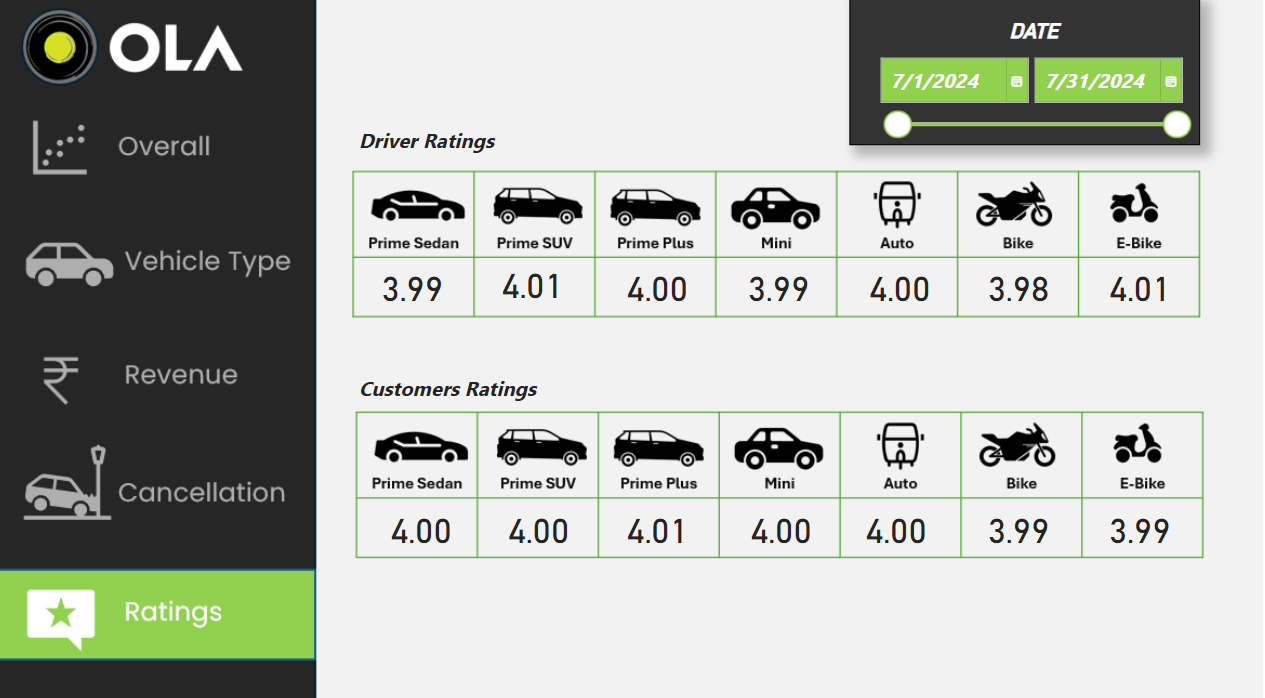

Layout of this report page (visuals, bound fields, positions):
{"tool":"powerbi","page":{"name":"Ratings","canvas":[1280,720],"ordinal":4},"visuals":[{"type":"actionButton","box":[56.4,123.9,290.8,94.5],"z":0},{"type":"actionButton","box":[56.4,216,290.8,94.5],"z":1000},{"type":"actionButton","box":[56.4,336.2,290.8,94.5],"z":2000},{"type":"actionButton","box":[57.7,439.3,290.8,94.5],"z":3000},{"type":"card","fields":{"Values":["Avg(July.Driver_Ratings)"]},"box":[384.8,271.2,109.1,51.5],"z":4000},{"type":"card","fields":{"Values":["Avg(July.Driver_Ratings)"]},"box":[495.5,269.7,109.1,51.5],"z":5000},{"type":"card","fields":{"Values":["Avg(July.Driver_Ratings)"]},"box":[610.6,271.2,109.1,51.5],"z":6000},{"type":"card","fields":{"Values":["Avg(July.Driver_Ratings)"]},"box":[722.7,271.2,109.1,51.5],"z":7000},{"type":"card","fields":{"Values":["Avg(July.Driver_Ratings)"]},"box":[834.9,271.2,109.1,51.5],"z":8000},{"type":"card","fields":{"Values":["Avg(July.Driver_Ratings)"]},"box":[945.5,271.2,109.1,51.5],"z":9000},{"type":"card","fields":{"Values":["Avg(July.Driver_Ratings)"]},"box":[1057.6,271.2,109.1,51.5],"z":10000},{"type":"card","fields":{"Values":["Avg(July.Customer_Rating)"]},"box":[392.4,495.5,109.1,51.5],"z":11000},{"type":"card","fields":{"Values":["Avg(July.Customer_Rating)"]},"box":[610.6,495.5,109.1,51.5],"z":12000},{"type":"card","fields":{"Values":["Avg(July.Customer_Rating)"]},"box":[725.8,495.5,109.1,51.5],"z":13000},{"type":"card","fields":{"Values":["Avg(July.Customer_Rating)"]},"box":[831.8,495.5,109.1,51.5],"z":14000},{"type":"card","fields":{"Values":["Avg(July.Customer_Rating)"]},"box":[945.5,495.5,109.1,51.5],"z":15000},{"type":"card","fields":{"Values":["Avg(July.Customer_Rating)"]},"box":[1057.6,495.5,109.1,51.5],"z":16000},{"type":"card","fields":{"Values":["Avg(July.Customer_Rating)"]},"box":[501.5,495.5,109.1,51.5],"z":17000},{"type":"textbox","box":[384.8,143.9,143.9,43.9],"z":18000},{"type":"textbox","box":[384.8,372.7,187.9,40.9],"z":19000},{"type":"slicer","title":"DATE","fields":{"Values":["July.Date"]},"box":[843.9,28.8,324.2,137.9],"z":20000}]}

Visuals, with their boxes in screenshot pixels (x1, y1, x2, y2), scaled from the page's 1280x720 canvas onto the 1265x698 screenshot:
actionButton: (x1=56, y1=120, x2=343, y2=212)
actionButton: (x1=56, y1=209, x2=343, y2=301)
actionButton: (x1=56, y1=326, x2=343, y2=418)
actionButton: (x1=57, y1=426, x2=344, y2=517)
card - Avg(July.Driver_Ratings): (x1=380, y1=263, x2=488, y2=313)
card - Avg(July.Driver_Ratings): (x1=490, y1=261, x2=598, y2=311)
card - Avg(July.Driver_Ratings): (x1=603, y1=263, x2=711, y2=313)
card - Avg(July.Driver_Ratings): (x1=714, y1=263, x2=822, y2=313)
card - Avg(July.Driver_Ratings): (x1=825, y1=263, x2=933, y2=313)
card - Avg(July.Driver_Ratings): (x1=934, y1=263, x2=1042, y2=313)
card - Avg(July.Driver_Ratings): (x1=1045, y1=263, x2=1153, y2=313)
card - Avg(July.Customer_Rating): (x1=388, y1=480, x2=496, y2=530)
card - Avg(July.Customer_Rating): (x1=603, y1=480, x2=711, y2=530)
card - Avg(July.Customer_Rating): (x1=717, y1=480, x2=825, y2=530)
card - Avg(July.Customer_Rating): (x1=822, y1=480, x2=930, y2=530)
card - Avg(July.Customer_Rating): (x1=934, y1=480, x2=1042, y2=530)
card - Avg(July.Customer_Rating): (x1=1045, y1=480, x2=1153, y2=530)
card - Avg(July.Customer_Rating): (x1=496, y1=480, x2=603, y2=530)
textbox: (x1=380, y1=140, x2=523, y2=182)
textbox: (x1=380, y1=361, x2=566, y2=401)
"DATE" slicer: (x1=834, y1=28, x2=1154, y2=162)
